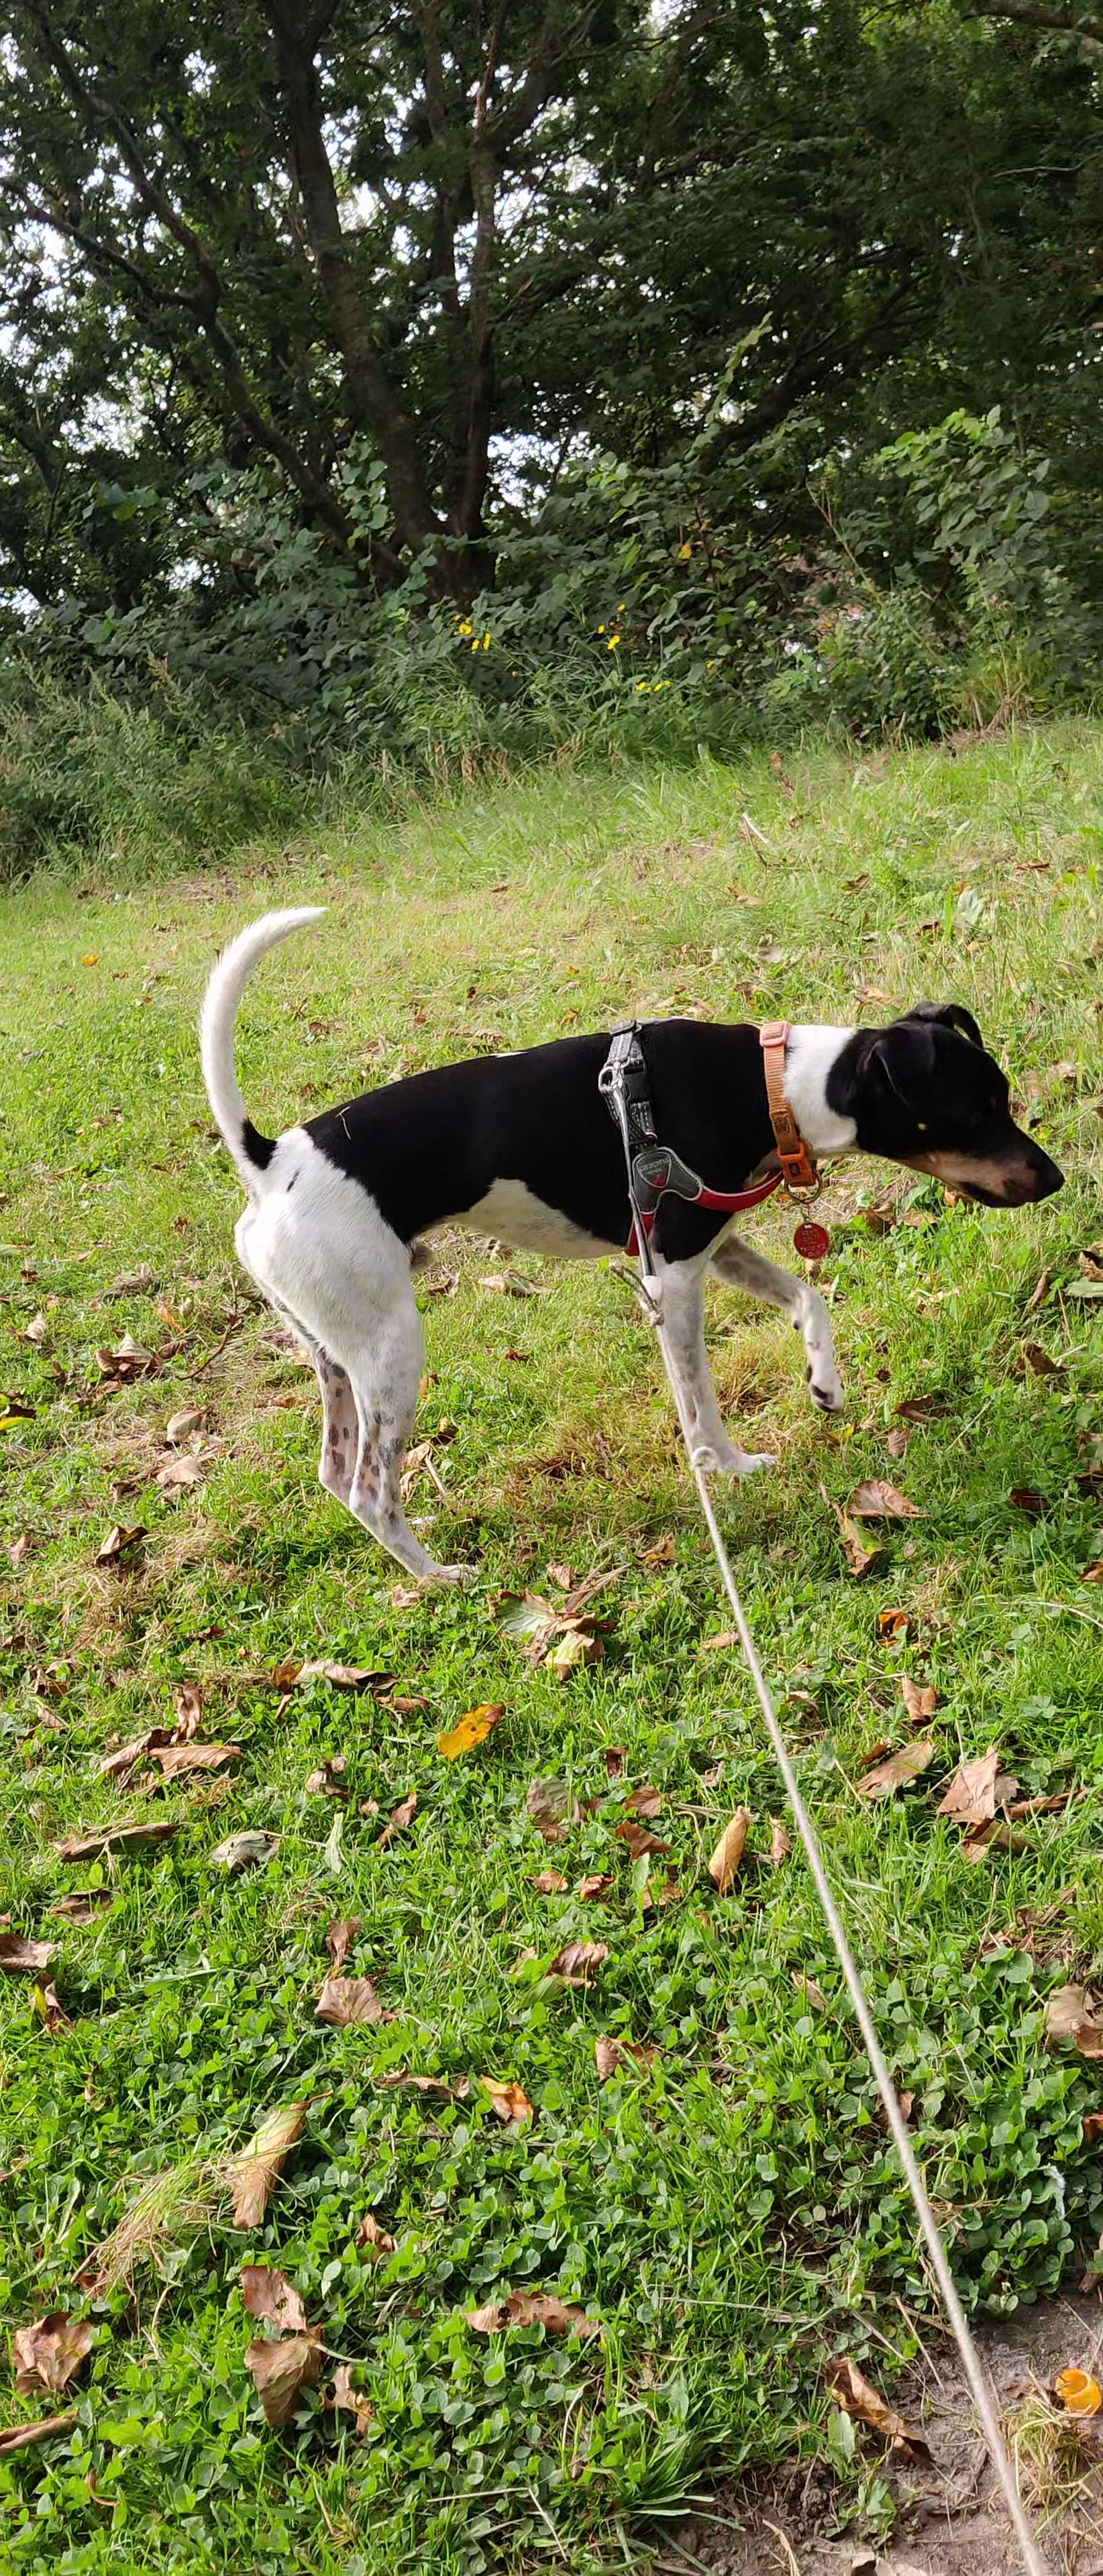Dog: (176, 885, 1082, 1584)
